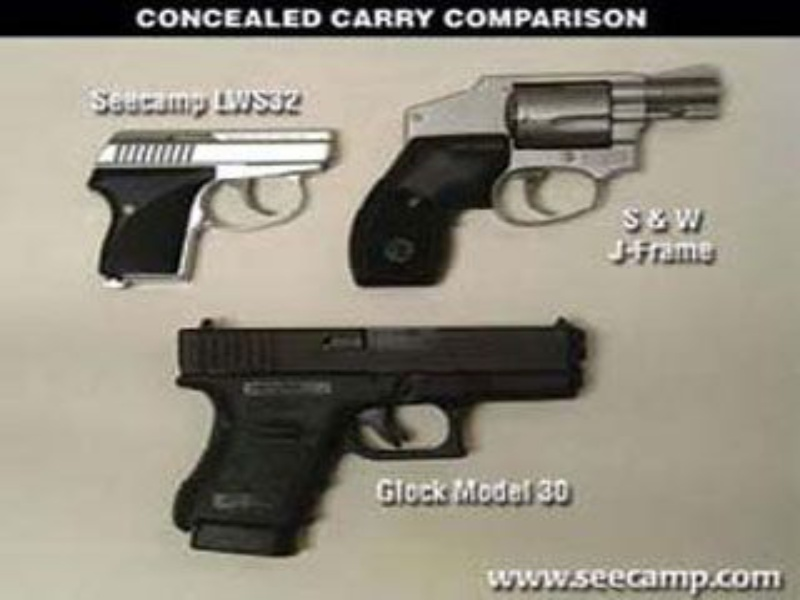gun: (173, 310, 599, 554), (358, 57, 726, 295), (92, 117, 344, 299)
